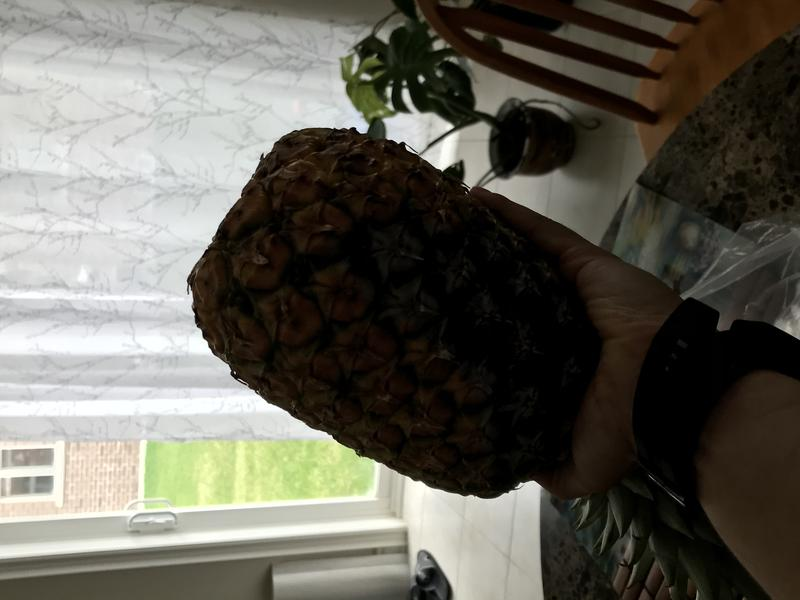pineapple: (183, 113, 737, 597)
